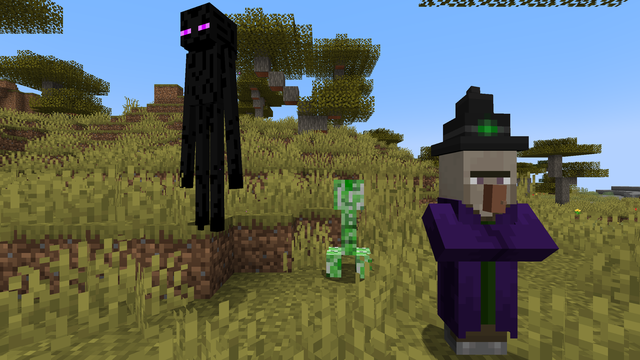creepers: (330, 175, 368, 279)
endermens: (175, 5, 238, 229)
sorcieres: (430, 141, 530, 356)
